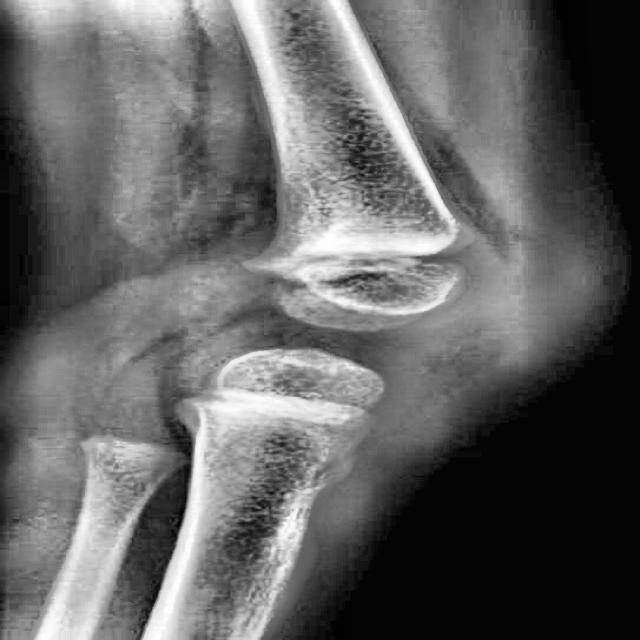line: (296, 455, 351, 494)
